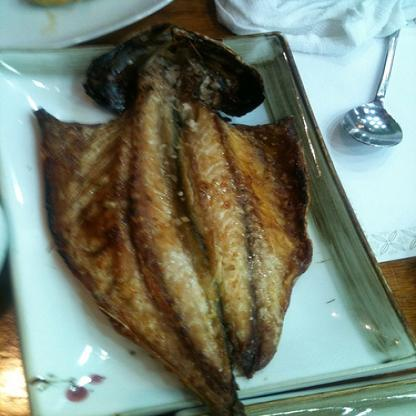Peixe: (32, 27, 328, 416)
